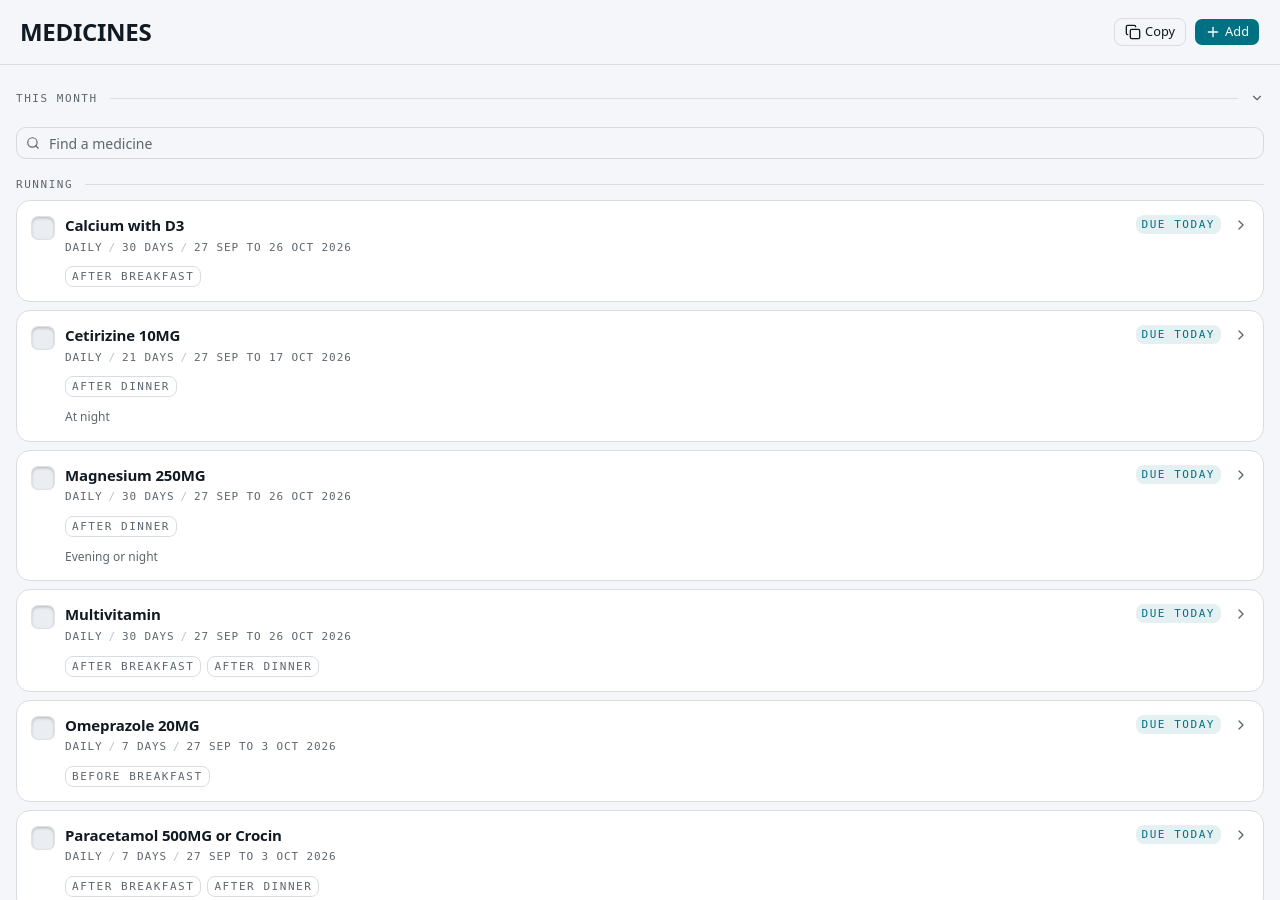
Test: the Medicines screen › filters every section by name, whatever the case it is typed in
The width and height of the screenshot is (1280, 900).
Type "vitamin" into the search field labelled "Find a medicine" at x=640, y=143, box [16, 127, 1264, 159]
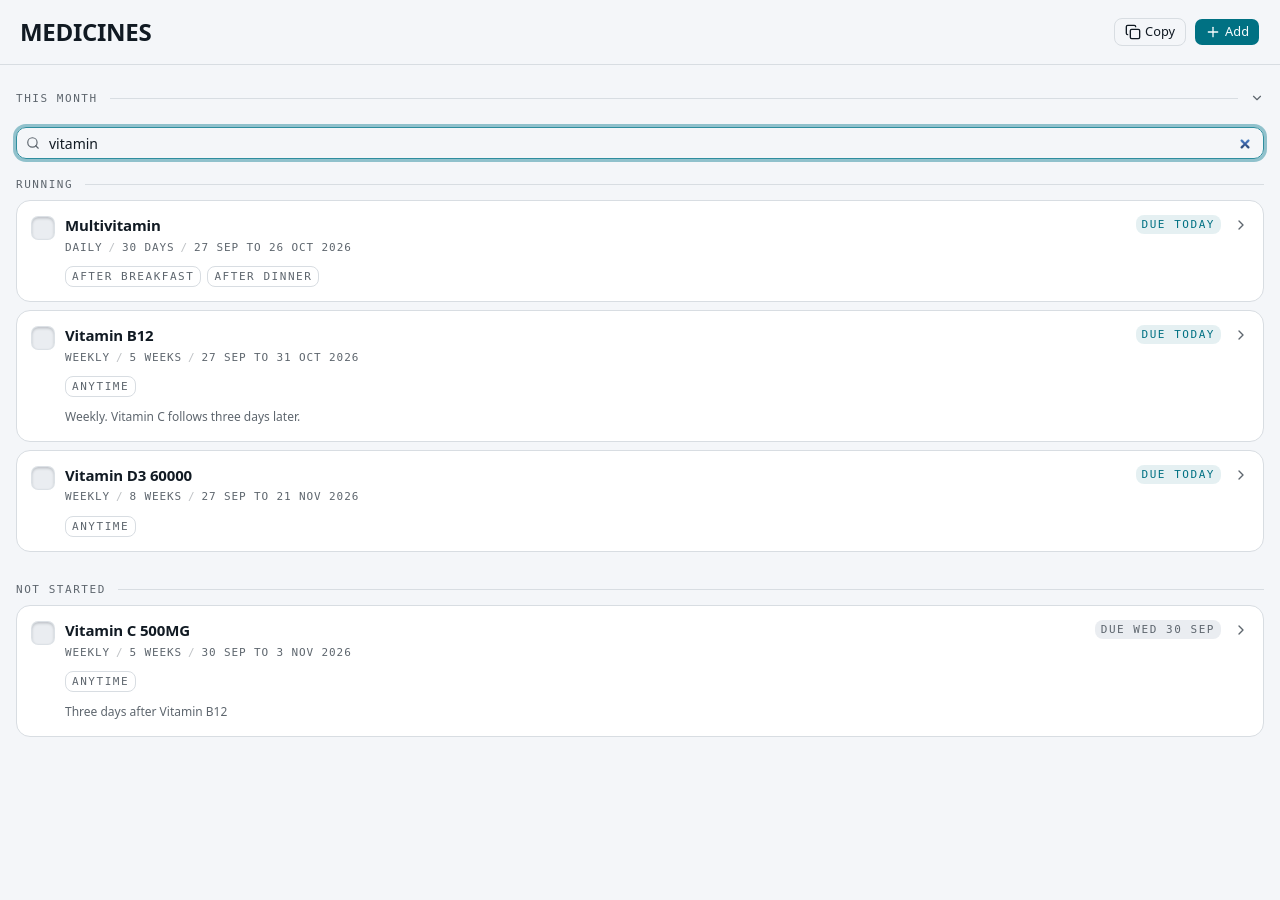
Expected: the heading "Multivitamin" is shown, [65, 215, 161, 235]
Result: the link "Omeprazole 20MG" is gone
Replace the text in the search field named "Find a medicine" with "OMEPRAZOLE" at x=640, y=143, box [16, 127, 1264, 159]
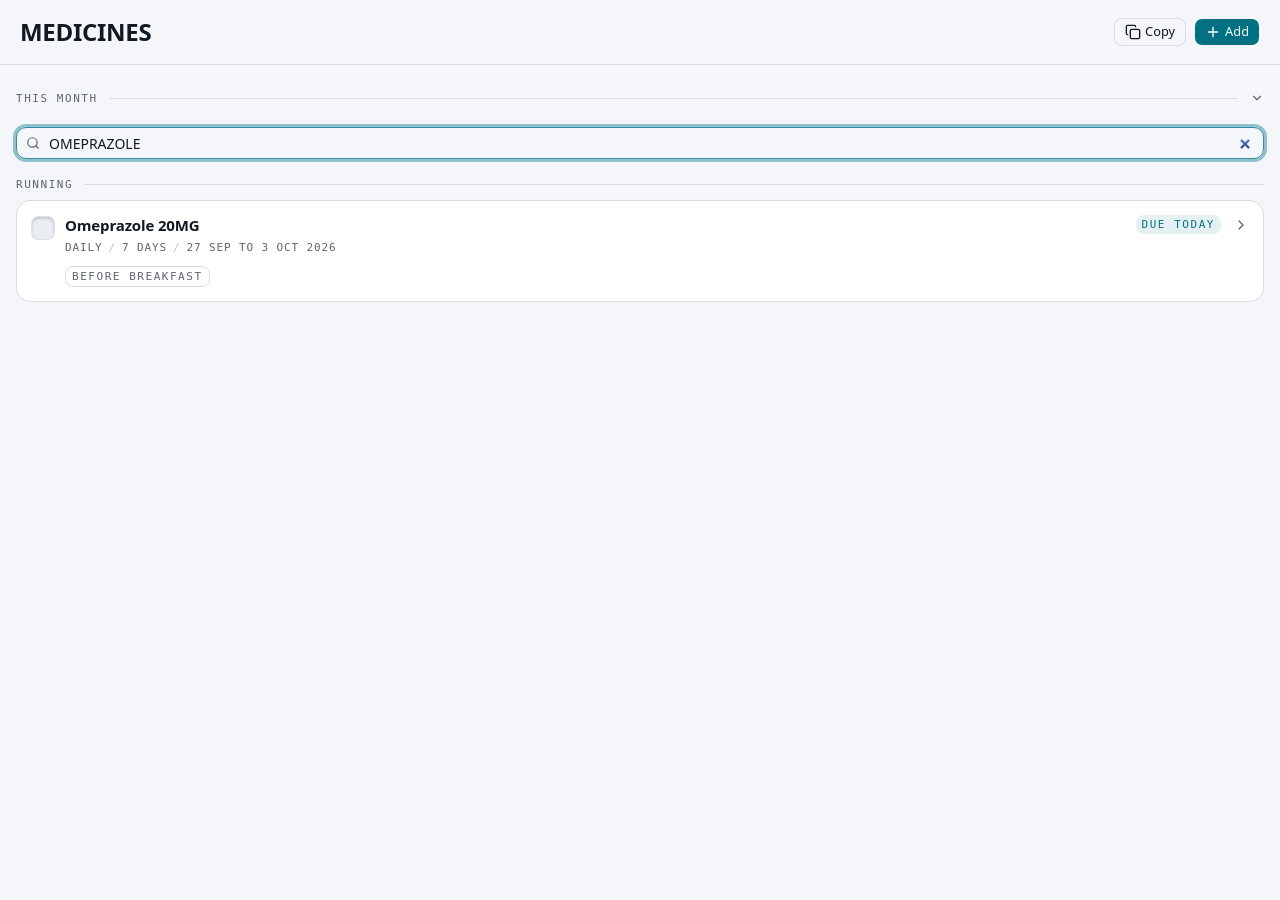
Expected: the text "Not started" is not shown
Result: the heading "Omeprazole 20MG" is shown at [65, 215, 200, 235]
Result: the link "Multivitamin" is gone
